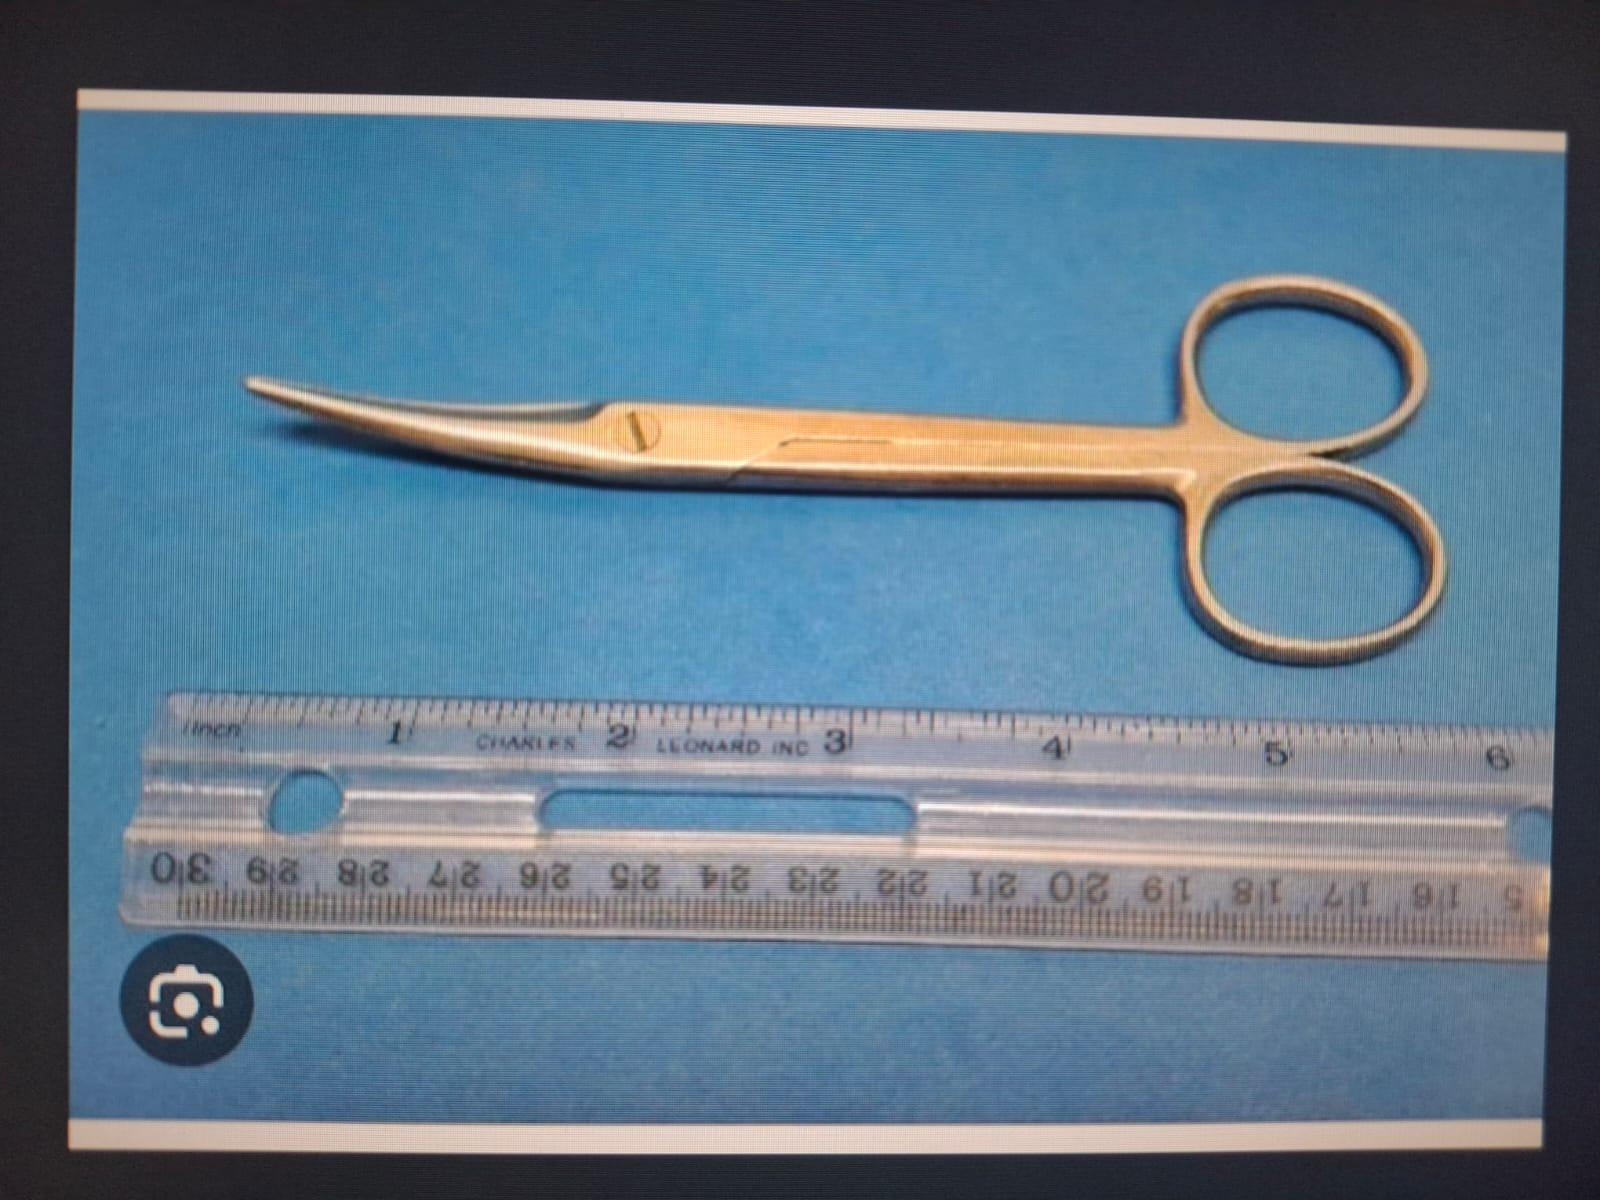Curved Mayo: (224, 276, 1458, 670)
